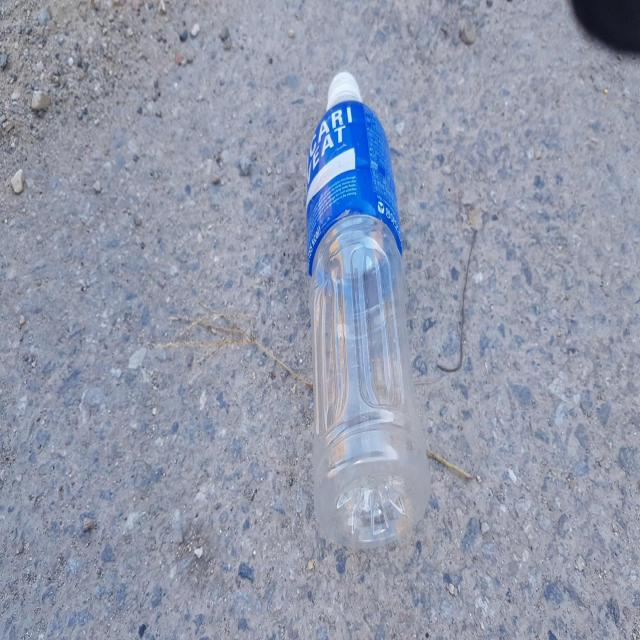plastic: (306, 71, 431, 548)
